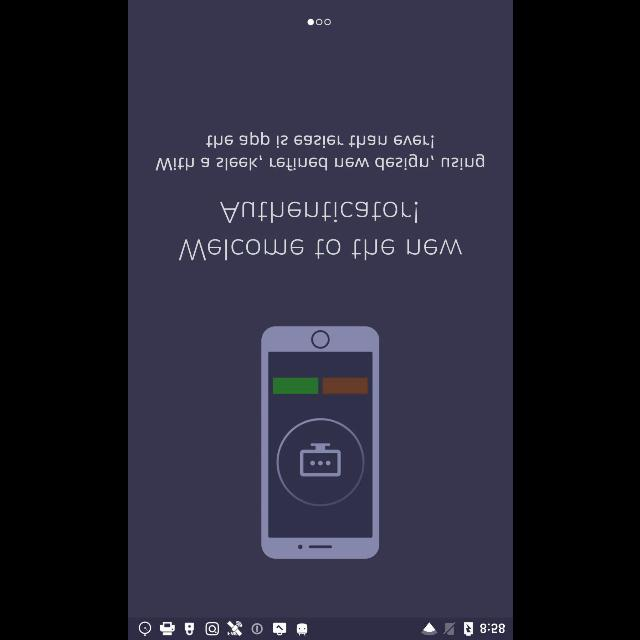image: (260, 326, 378, 558)
pageindicator: (307, 18, 331, 26)
text: (177, 201, 461, 261), (154, 132, 483, 170)
uppertaskbar: (128, 617, 512, 639)
